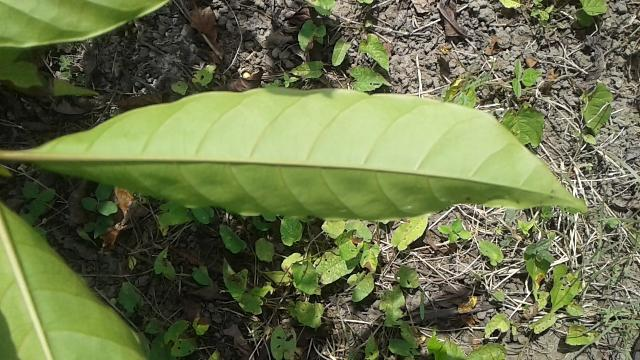healthy: (16, 88, 592, 219)
